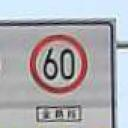speed_limit_60: (29, 33, 89, 94)
